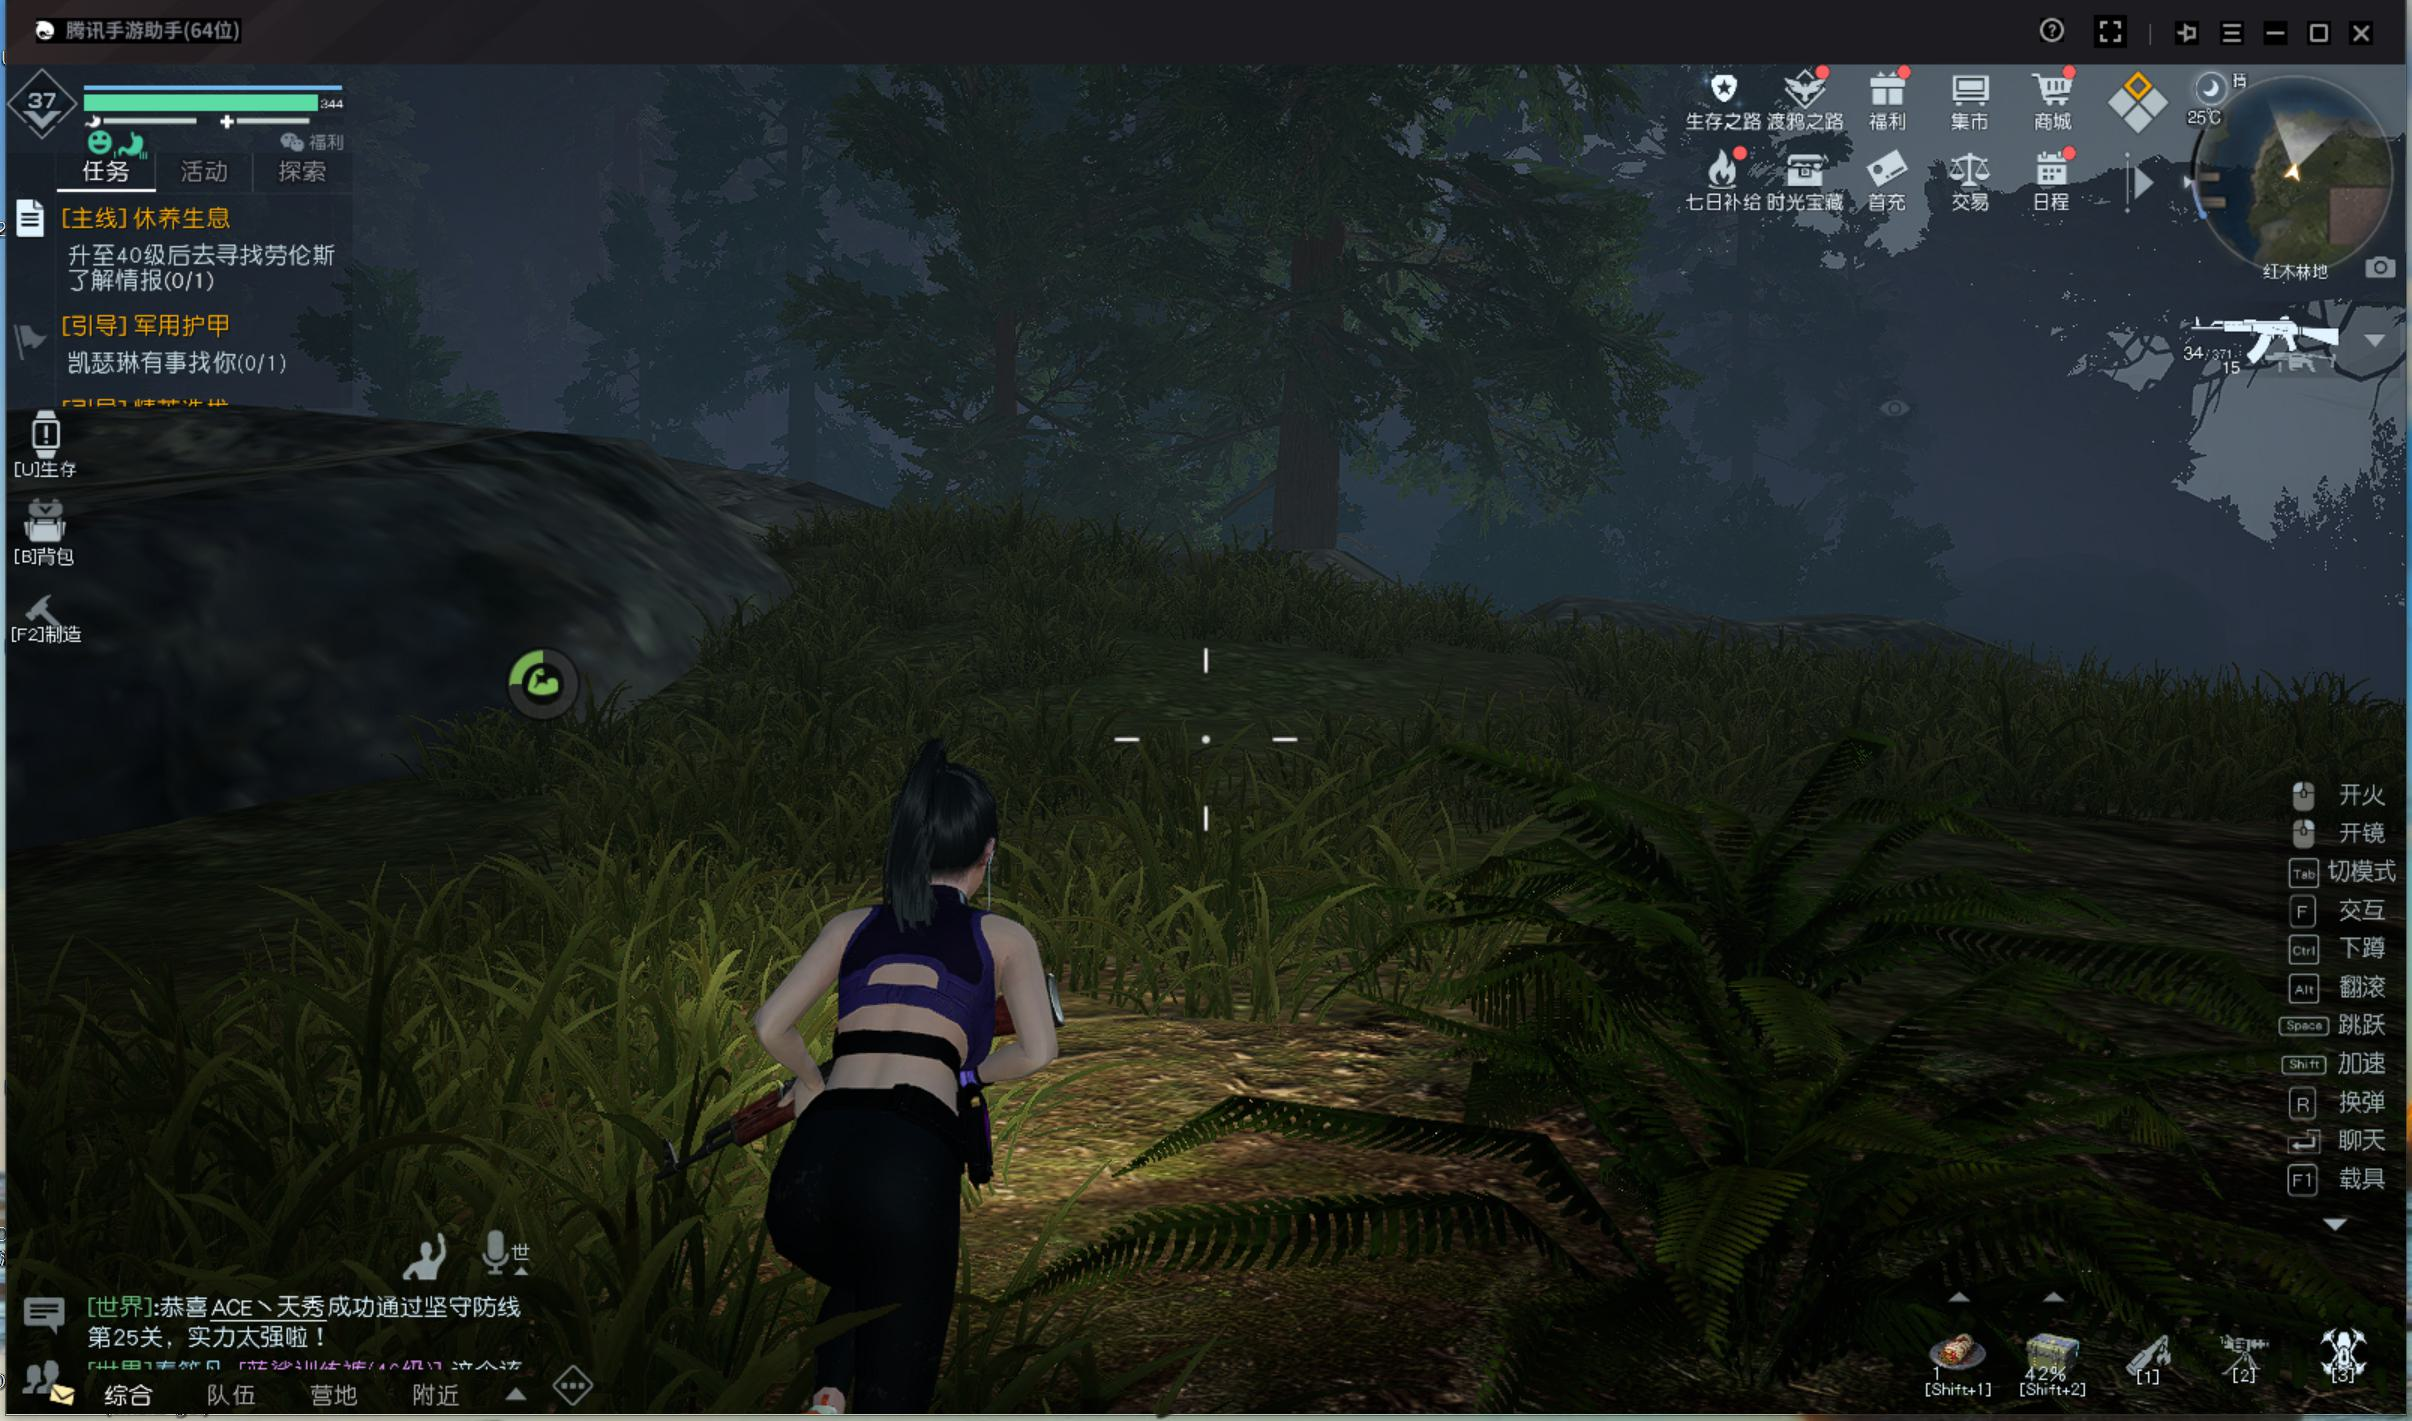tree: (1274, 304, 1348, 570), (771, 303, 824, 507)
